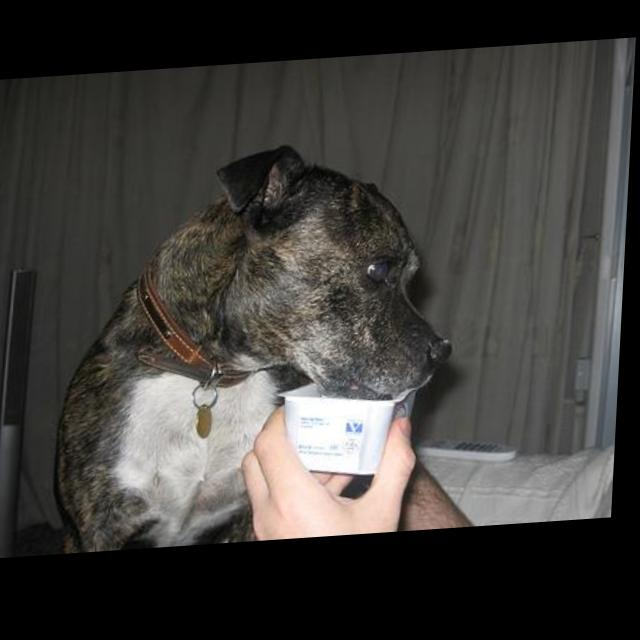staffford: (56, 138, 467, 557)
